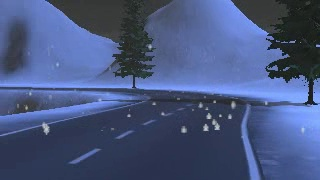Lane: (0, 87, 258, 179)
